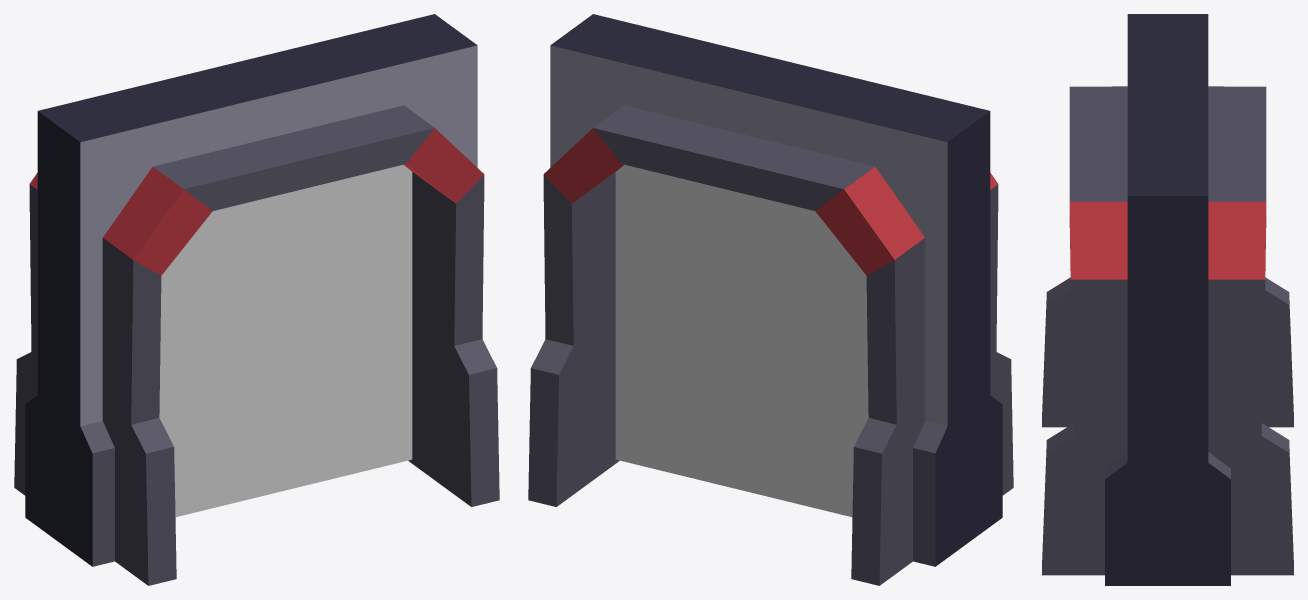
File: DoorGarage.fbx
3 renders of one model, left to right at view 1: azimuth 30°, elevation 25°; view 2: azimuth 150°, elevation 25°; view 3: azimuth 270°, elevation 25°, orthographic. The views are drawn at different scales.
Visible parts, largest first — view 1: DoorOutsideService, DoorOutsideService(Door1); view 2: DoorOutsideService, DoorOutsideService(Door1); view 3: DoorOutsideService.
Boxes of the visible parts, box(x1,y1,x2,y2) form: DoorOutsideService: box(14, 14, 499, 585); DoorOutsideService(Door1): box(159, 164, 412, 516); DoorOutsideService: box(528, 14, 1013, 585); DoorOutsideService(Door1): box(615, 164, 868, 516); DoorOutsideService: box(1042, 14, 1293, 585).
Bounding box in the file's own units: 200 × 200 × 117.
